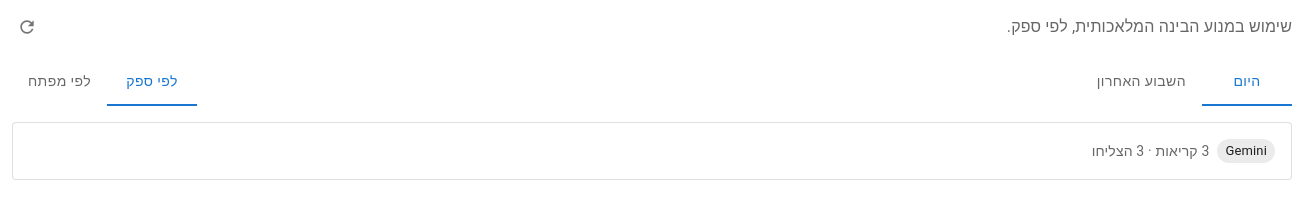
Scenario: grouping › switches the rows from provider to key
Expected: the text "Gemini" is shown, top-left (1225, 143), bottom-right (1267, 158)
Expected: the text "api2-gemini" is not shown
Step 1. Click the tab "לפי מפתח" → (60, 82), box top-left (12, 58), bottom-right (107, 106)
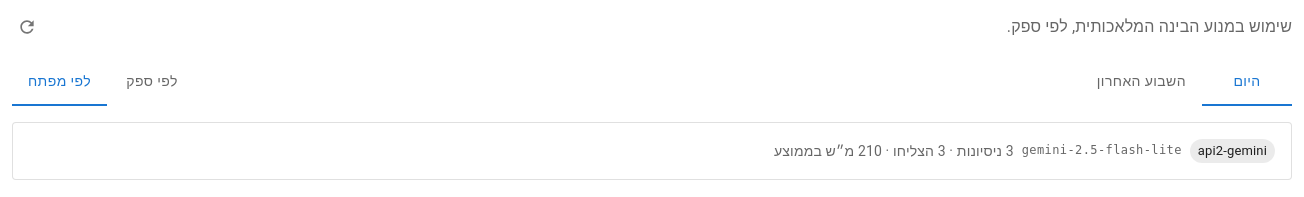
Expected: the text "api2-gemini" is shown, top-left (1198, 143), bottom-right (1267, 158)
Expected: the text "3 ניסיונות · 3 הצליחו · 210 מ״ש בממוצע" is shown, top-left (774, 141), bottom-right (1014, 161)
